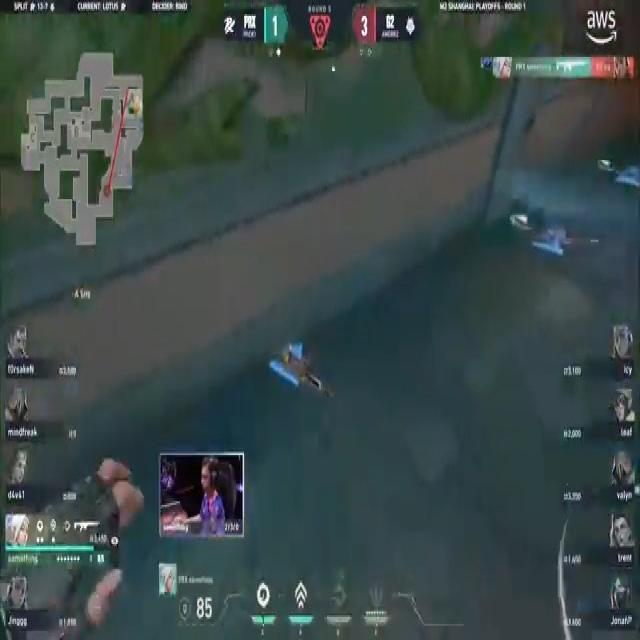gun: (521, 192, 616, 270), (276, 327, 338, 408)
